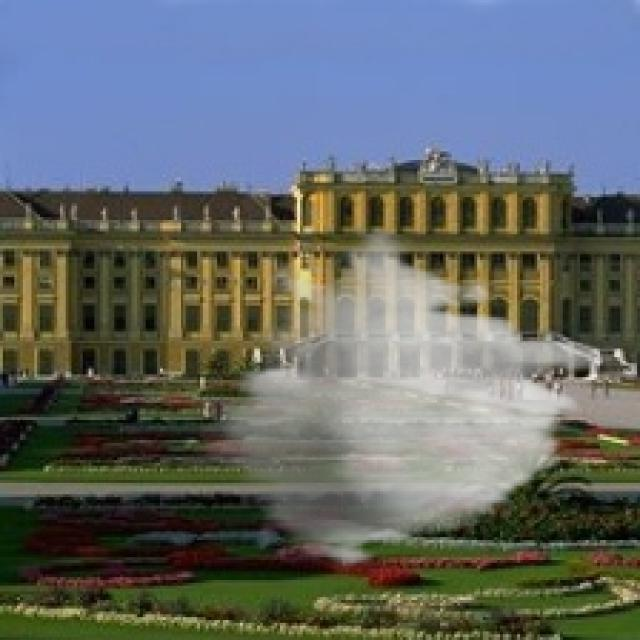smoke: (192, 226, 612, 568)
